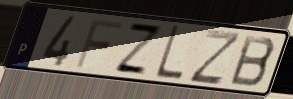4: (39, 14, 78, 68)
B: (227, 33, 278, 89)
F: (73, 17, 125, 70)
L: (152, 23, 185, 82)
Z: (186, 28, 245, 87), (111, 21, 165, 78)
